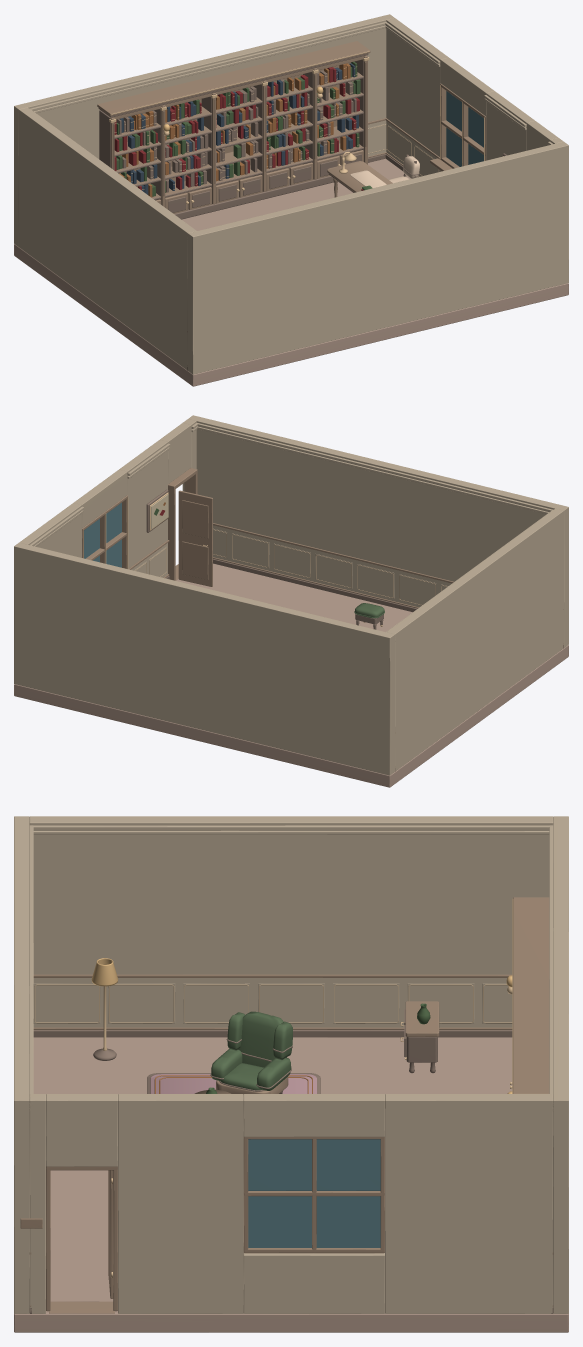
File: HotelH01_FinalPolish.fbx
3 renders of one model, top to bottom at view 1: azimuth 30°, elevation 25°; view 2: azimuth 150°, elevation 25°; view 3: azimuth 270°, elevation 25°, orthographic. The views are drawn at different scales.
Parts seen in each view (by area): view 1: Continuous finished wall.001, Continuous finished wall.002, Uniform foundation, Continuous finished wall, Load-bearing doorway return, Bookcase crown profile.002, Load-bearing doorway return.001, Load-bearing doorway return.005, Continuous stepped wall trim.004, Bookcase stepped plinth, Continuous stepped wall trim.003, Bookcase crown profile (+13 smaller); view 2: Continuous finished wall, Continuous finished wall.001, Continuous finished wall.002, Uniform foundation, Load-bearing doorway return.001, Load-bearing doorway return, Load-bearing doorway return.005, Continuous stepped wall trim.024, Solid paneled walnut leaf, Load-bearing doorway return.003, Continuous stepped wall trim.023, Continuous stepped wall trim.020 (+11 smaller); view 3: Continuous finished wall.002, Load-bearing doorway return, Load-bearing doorway return.001, Uniform foundation, Load-bearing doorway return.004, Continuous finished wall, Continuous finished wall.001, Bookcase crown profile.002, Load-bearing doorway return.005, Load-bearing doorway return.003, Load-bearing doorway return.002, Glazing panel (+36 smaller).
Boxes of the visible parts, <box> form: Continuous finished wall.001: <box>188,141,568,374</box>; Continuous finished wall.002: <box>19,107,195,369</box>; Uniform foundation: <box>14,159,568,386</box>; Continuous finished wall: <box>14,14,394,246</box>; Load-bearing doorway return: <box>386,18,448,176</box>; Bookcase crown profile.002: <box>97,41,370,116</box>; Load-bearing doorway return.001: <box>486,91,534,160</box>; Load-bearing doorway return.005: <box>440,58,494,116</box>; Continuous stepped wall trim.004: <box>29,22,386,111</box>; Bookcase stepped plinth: <box>174,163,340,219</box>; Continuous stepped wall trim.003: <box>34,25,385,113</box>; Bookcase crown profile: <box>112,55,365,119</box>; Continuous finished wall: <box>14,542,394,775</box>; Continuous finished wall.001: <box>188,415,568,647</box>; Continuous finished wall.002: <box>387,508,563,771</box>; Uniform foundation: <box>14,563,568,787</box>; Load-bearing doorway return.001: <box>119,440,167,577</box>; Load-bearing doorway return: <box>19,503,81,557</box>; Load-bearing doorway return.005: <box>73,469,127,527</box>; Continuous stepped wall trim.024: <box>197,423,553,512</box>; Solid paneled walnut leaf: <box>178,490,212,586</box>; Load-bearing doorway return.003: <box>160,423,191,484</box>; Continuous stepped wall trim.023: <box>197,426,548,514</box>; Continuous stepped wall trim.020: <box>213,559,563,648</box>; Continuous finished wall.002: <box>29,816,553,1027</box>; Load-bearing doorway return: <box>385,1094,553,1313</box>; Load-bearing doorway return.001: <box>118,1094,243,1313</box>; Uniform foundation: <box>14,1037,568,1332</box>; Load-bearing doorway return.004: <box>243,1253,384,1313</box>; Continuous finished wall: <box>553,816,568,1313</box>; Continuous finished wall.001: <box>14,816,29,1313</box>; Bookcase crown profile.002: <box>513,897,549,1093</box>; Load-bearing doorway return.005: <box>243,1094,384,1136</box>; Load-bearing doorway return.003: <box>46,1094,117,1166</box>; Load-bearing doorway return.002: <box>29,1094,45,1313</box>; Glazing panel: <box>316,1196,380,1247</box>.
Size of the model in its own units: 10.31 by 3.92 by 8.48.
